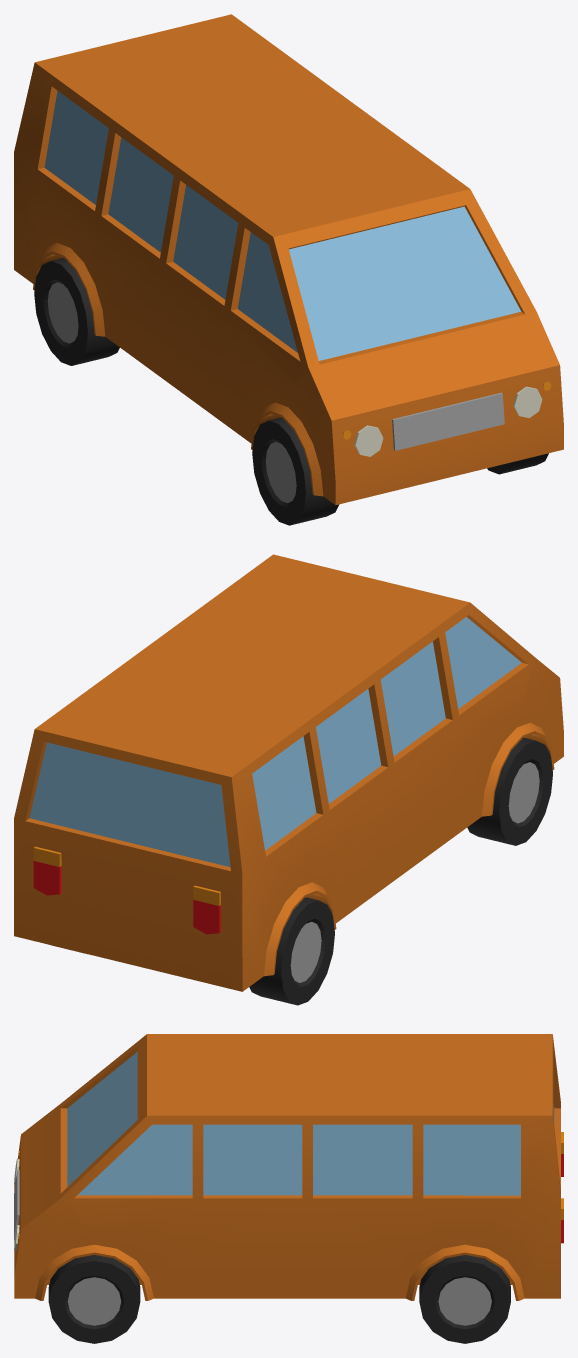
File: car-minibus-orange.gltf
3 views of the same model, one above another, from view 1: azimuth 30°, elevation 25°; view 2: azimuth 150°, elevation 25°; view 3: azimuth 270°, elevation 25° (orthographic). The views are drawn at different scales.
Visible parts, largest first — view 1: car-minibus-orange_Cube.608; view 2: car-minibus-orange_Cube.608; view 3: car-minibus-orange_Cube.608.
Boxes of the visible parts, box(x1,y1,x2,y2) form: car-minibus-orange_Cube.608: box(14, 14, 563, 525); car-minibus-orange_Cube.608: box(14, 554, 563, 1005); car-minibus-orange_Cube.608: box(14, 1034, 563, 1343).
Bounding box in the file's own units: 1.91 × 1.89 × 4.33.
